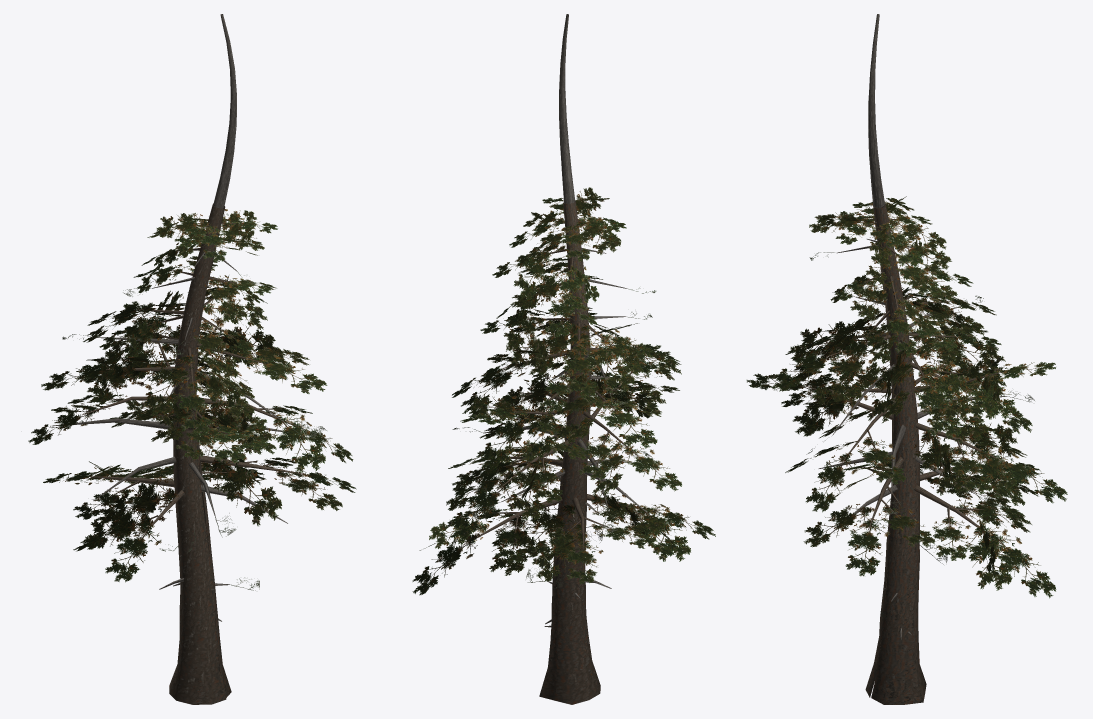
File: tree_v6_pine_mangy_broken_autumn.glb
3 renders of one model, left to right at view 1: azimuth 30°, elevation 25°; view 2: azimuth 150°, elevation 25°; view 3: azimuth 270°, elevation 25°, orthographic. The views are drawn at different scales.
Parts seen in each view (by area): view 1: tree_v6_pine_mangy_broken_autumn_LOD0; view 2: tree_v6_pine_mangy_broken_autumn_LOD0; view 3: tree_v6_pine_mangy_broken_autumn_LOD0.
Part boxes in pixels (x1,y1,x2,y2): tree_v6_pine_mangy_broken_autumn_LOD0: (28,14,356,704); tree_v6_pine_mangy_broken_autumn_LOD0: (412,14,715,704); tree_v6_pine_mangy_broken_autumn_LOD0: (746,14,1067,704).
Size of what is drawn, in the model's own units: 5.43 by 12.18 by 5.37.
1 material, 1 textured.
